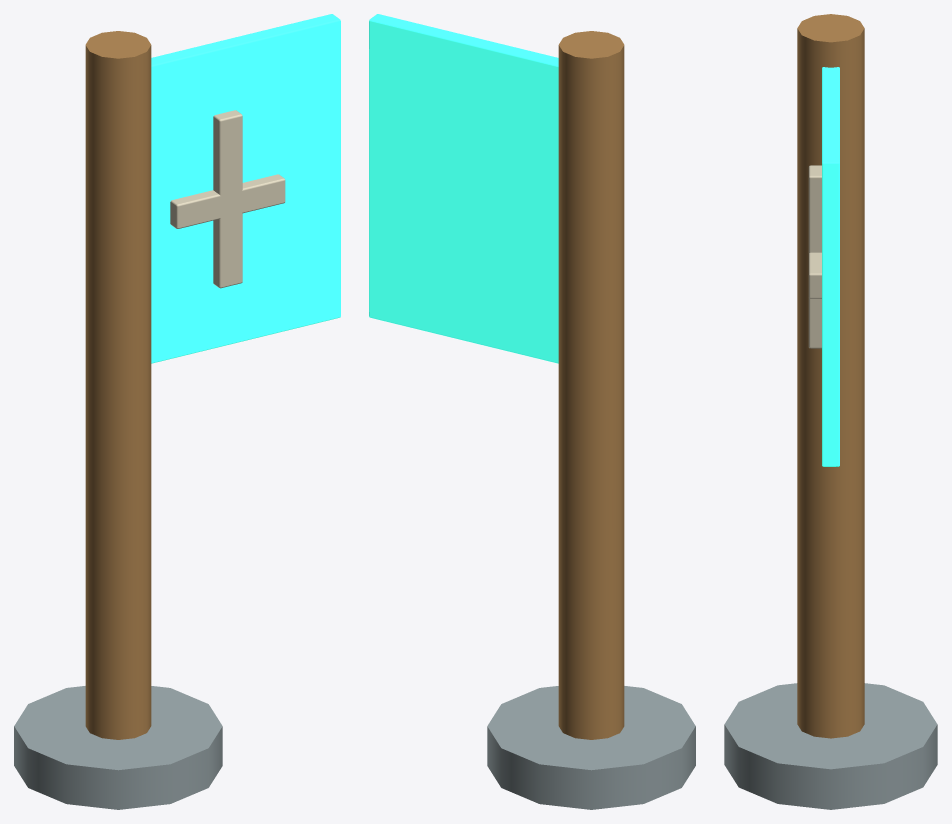
The model's file is sunfall-rift-moba-dawn-banner-8fff41d5__22003.glb.
The picture shows the model from 3 angles, left to right: view 1: azimuth 30°, elevation 25°; view 2: azimuth 150°, elevation 25°; view 3: azimuth 270°, elevation 25°; orthographic projection. The views are drawn at different scales.
Visible parts, largest first — view 1: dawn-banner; view 2: dawn-banner; view 3: dawn-banner.
Part boxes in pixels (box(x1,y1,x2,y2)): dawn-banner: box(14, 14, 340, 809); dawn-banner: box(369, 14, 695, 809); dawn-banner: box(724, 14, 937, 809).
Bounding box in the file's own units: 1.3 × 2.9 × 0.76.
